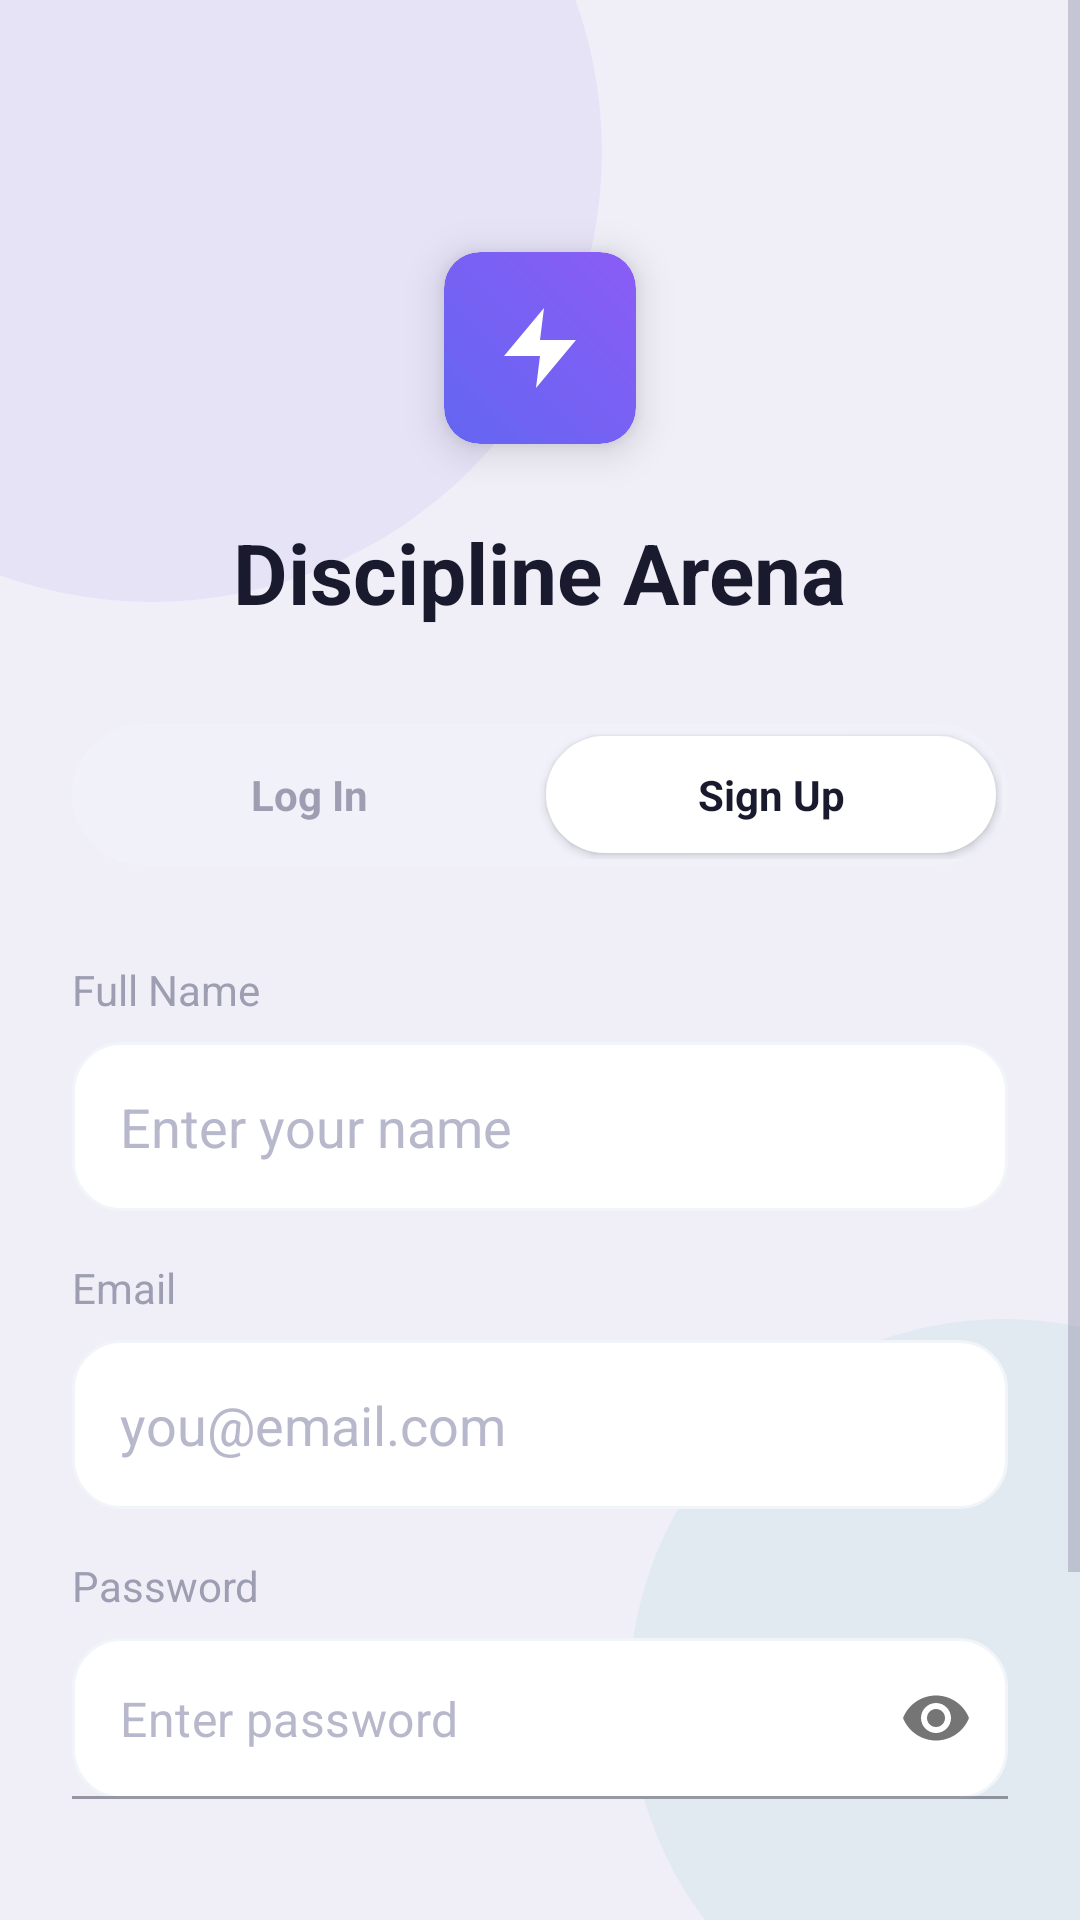

Named icons in this screenshot (1080x1920) and their centers, [x,y]:
bolt: [540,348]
